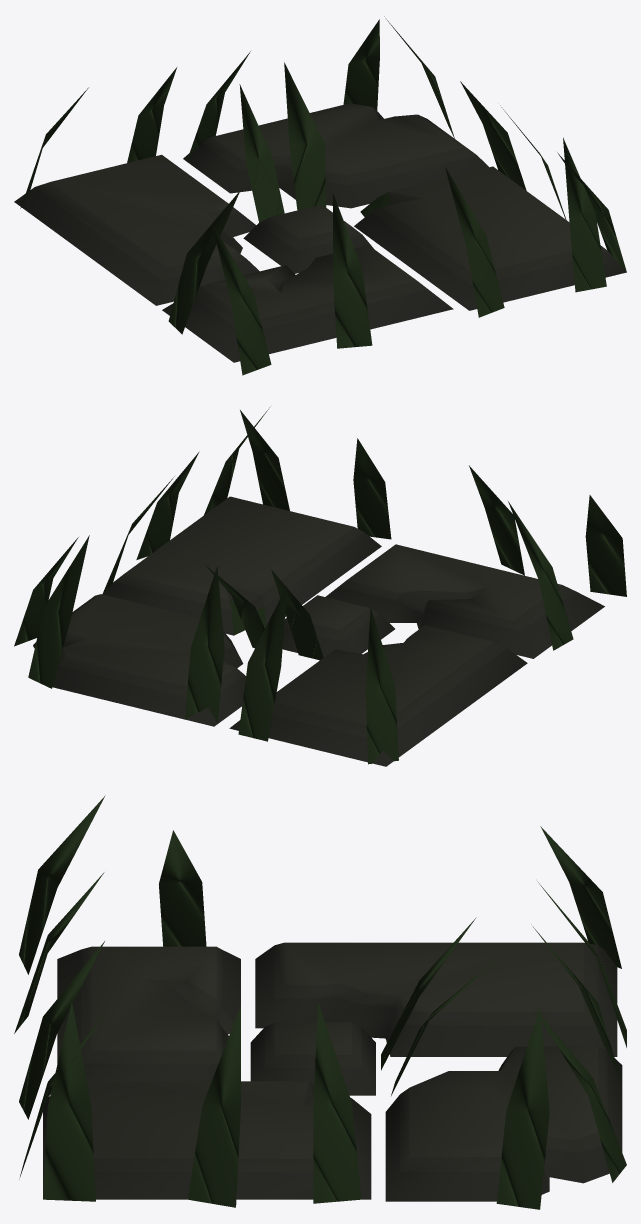
3 renders of one model, top to bottom at view 1: azimuth 30°, elevation 25°; view 2: azimuth 150°, elevation 25°; view 3: azimuth 270°, elevation 25°, orthographic. The views are drawn at different scales.
Visible parts, largest first — view 1: 17501; view 2: 17501; view 3: 17501.
Part boxes in pixels (x1,y1,x2,y2): 17501: (14, 16, 626, 375); 17501: (14, 407, 626, 766); 17501: (14, 795, 626, 1209).
Size of the model in its own units: 126 by 37 by 127.
